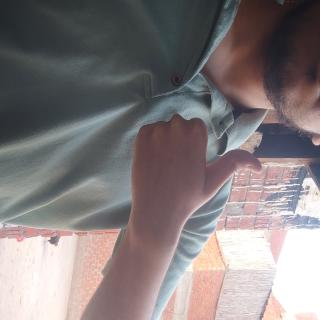ALIF: (82, 72, 184, 280)
